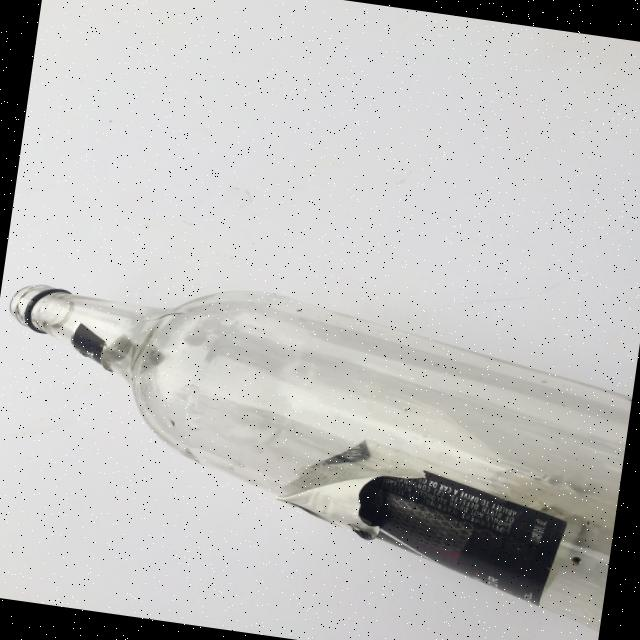glass: (0, 255, 639, 631)
